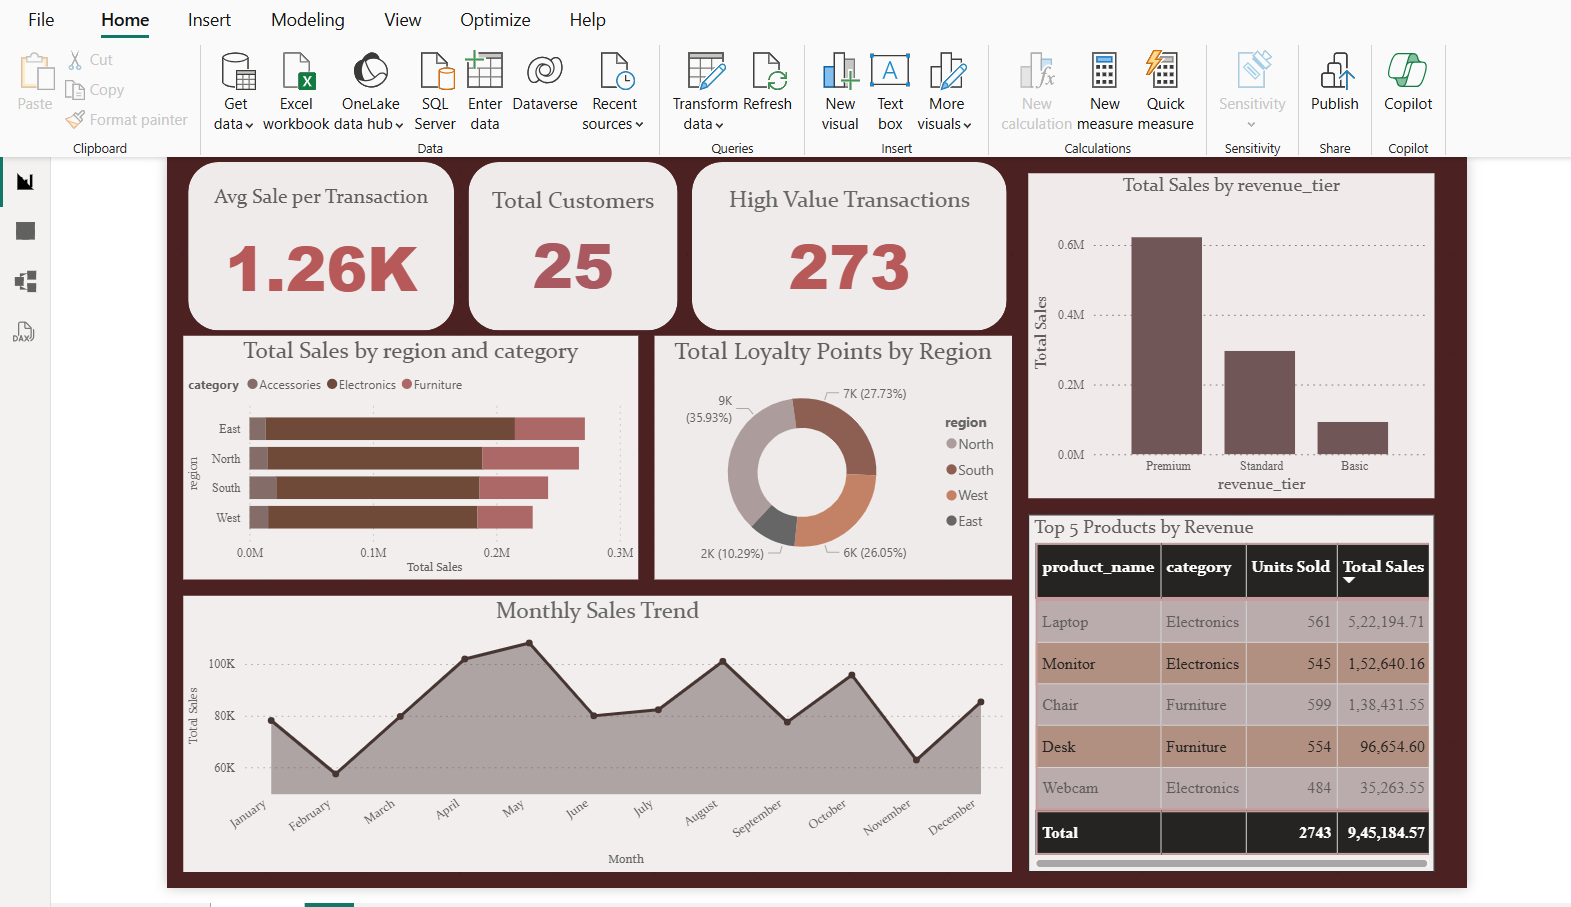

This screenshot's page, from the dashboard's own definition file:
{"tool":"powerbi","page":{"name":"Page 1","canvas":[1280,720],"ordinal":0},"visuals":[{"type":"barChart","fields":{"Category":["Transactions.region"],"Y":["Transactions.Total Sales"],"Series":["Transactions.category"]},"box":[16,176,448,240],"z":0},{"type":"lineChart","title":"Monthly Sales Trend","fields":{"Category":["Transactions.sale_date.Variation.Date Hierarchy.Month"],"Y":["Transactions.Total Sales"]},"box":[16,432,816,272],"z":1000},{"type":"tableEx","title":"Top 5 Products by Revenue","fields":{"Values":["Transactions.product_name","Transactions.category","Transactions.Units Sold","Transactions.Total Sales"]},"box":[848,352,400,352],"z":2000},{"type":"cardVisual","title":"Total Customers","fields":{"Data":["Customers.Total Customers"]},"box":[272,0,256,176],"z":3000},{"type":"cardVisual","fields":{"Data":["Transactions.Avg Sale per Transaction"]},"box":[16,0,272,176],"z":4000},{"type":"cardVisual","fields":{"Data":["Transactions.High Value Transactions"]},"box":[512,0,320,176],"z":5000},{"type":"donutChart","title":"Total Loyalty Points by Region","fields":{"Category":["Customers.region"],"Y":["Transactions.Total Loyalty Points"]},"box":[480,176,352,240],"z":6000},{"type":"columnChart","fields":{"Category":["Transactions.revenue_tier"],"Y":["Transactions.Total Sales"]},"box":[848,16,400,320],"z":6001}]}

Visuals, with their boxes on the page's 1280x720 design canvas (x1, y1, x2, y2). These are canvas units, not pixel positions in the 1571x907 screenshot, which may show the page scaled, cropped or inside an application window:
barChart - Transactions.region x Transactions.Total Sales: {"x1": 16, "y1": 176, "x2": 464, "y2": 416}
"Monthly Sales Trend" lineChart: {"x1": 16, "y1": 432, "x2": 832, "y2": 704}
"Top 5 Products by Revenue" tableEx: {"x1": 848, "y1": 352, "x2": 1248, "y2": 704}
"Total Customers" cardVisual: {"x1": 272, "y1": 0, "x2": 528, "y2": 176}
cardVisual - Transactions.Avg Sale per Transaction: {"x1": 16, "y1": 0, "x2": 288, "y2": 176}
cardVisual - Transactions.High Value Transactions: {"x1": 512, "y1": 0, "x2": 832, "y2": 176}
"Total Loyalty Points by Region" donutChart: {"x1": 480, "y1": 176, "x2": 832, "y2": 416}
columnChart - Transactions.revenue_tier x Transactions.Total Sales: {"x1": 848, "y1": 16, "x2": 1248, "y2": 336}
